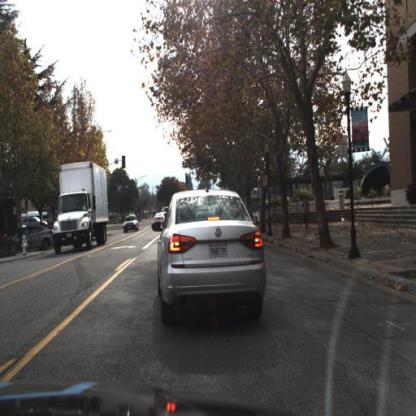car: (151, 185, 273, 325), (14, 227, 56, 250), (122, 214, 140, 235), (154, 212, 166, 227)
pedestrian: (301, 193, 311, 235), (301, 194, 310, 232)
trafficLight-Red: (185, 172, 190, 187)
truck: (52, 159, 112, 256)
